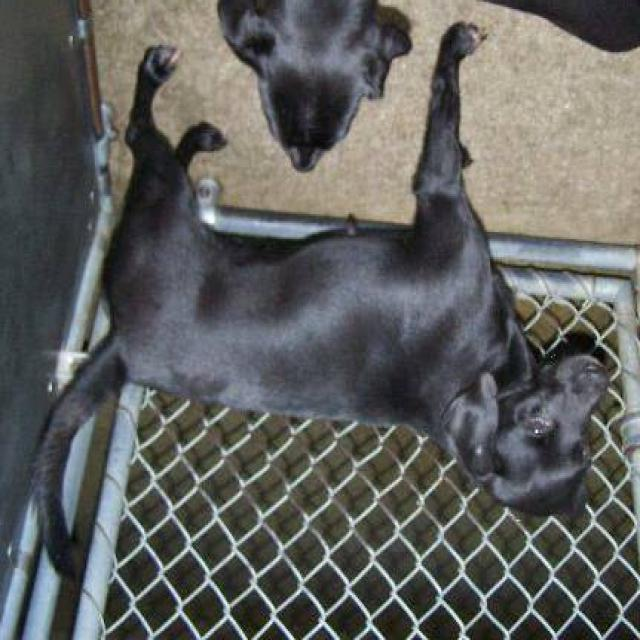dog: (17, 79, 624, 604)
